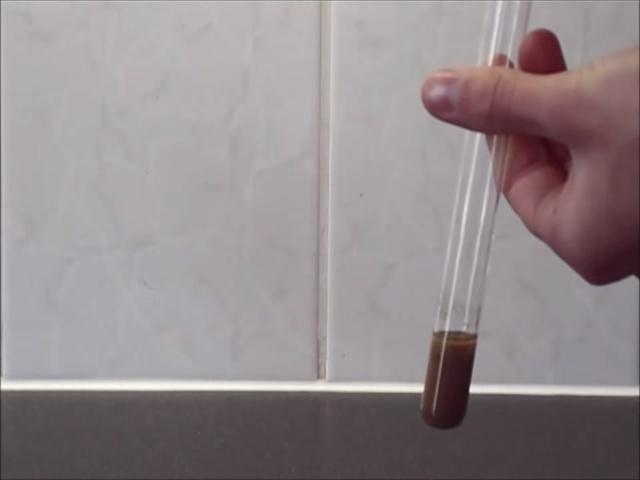Test tube: (421, 26, 505, 432)
